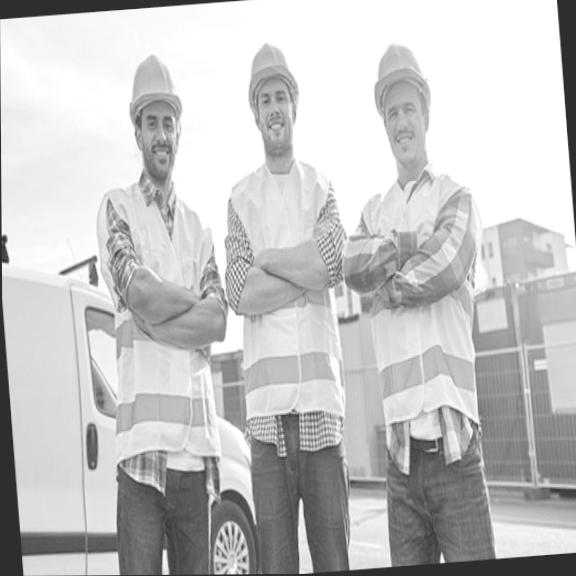safety_vest: (346, 162, 499, 438), (89, 176, 234, 456), (218, 153, 357, 419)
